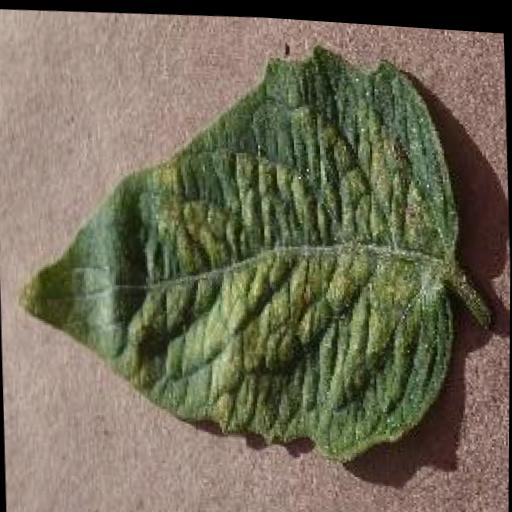Spider Mites: (6, 17, 468, 473)
